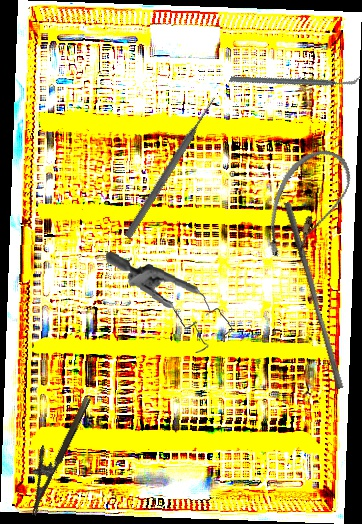Cannula: (256, 139, 358, 272)
Chopper: (228, 27, 361, 131)
Needle Holder: (12, 389, 93, 516)
Pusher: (122, 95, 220, 240), (276, 201, 351, 390)
Speculum: (98, 251, 239, 356)
